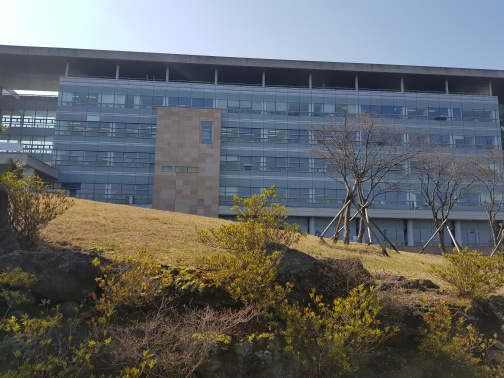Engineering College Building 4: (14, 42, 503, 215), (277, 72, 497, 243), (160, 97, 221, 221)
